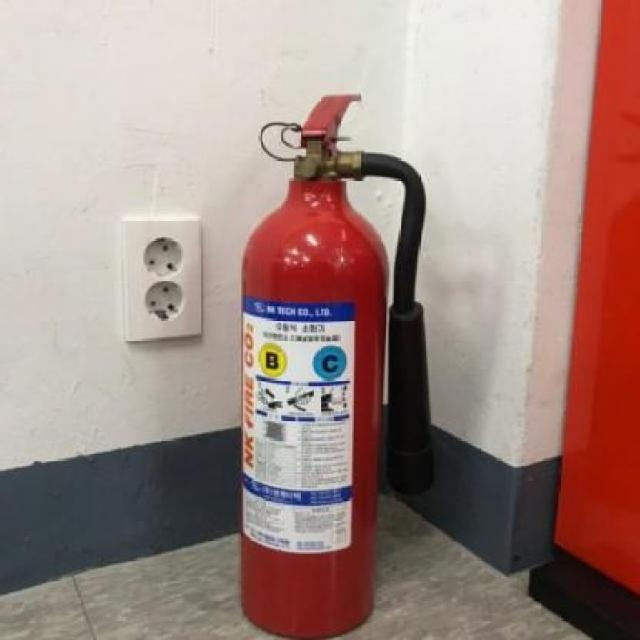fire extinguisher: (239, 94, 432, 640)
